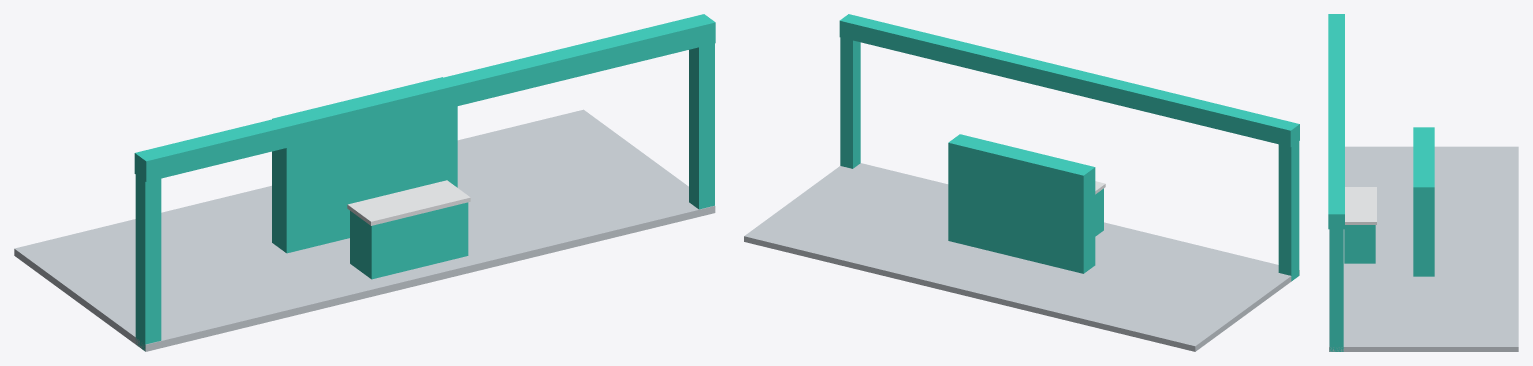
The picture shows the model from 3 angles, left to right: view 1: azimuth 30°, elevation 25°; view 2: azimuth 150°, elevation 25°; view 3: azimuth 270°, elevation 25°; orthographic projection. The views are drawn at different scales.
Visible parts, largest first — view 1: Exhibition Booth Concept; view 2: Exhibition Booth Concept; view 3: Exhibition Booth Concept.
Part boxes in pixels (x1=…): Exhibition Booth Concept: x1=14, y1=14, x2=715, y2=351; Exhibition Booth Concept: x1=744, y1=14, x2=1299, y2=351; Exhibition Booth Concept: x1=1328, y1=14, x2=1518, y2=351.
Size of the model in its own units: 10 by 3.2 by 4.02.
